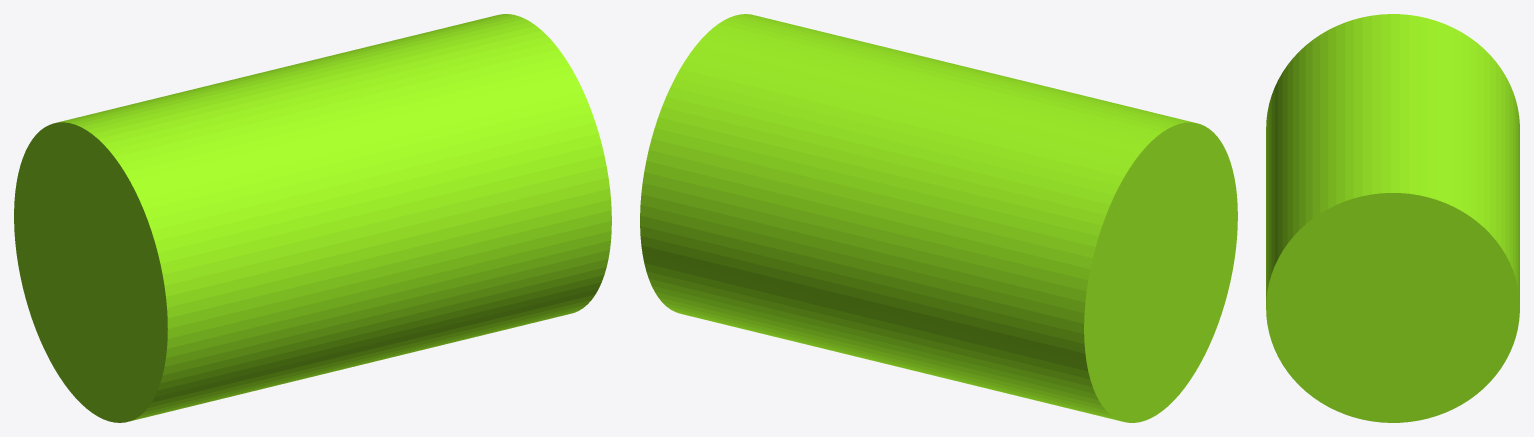
The picture shows the model from 3 angles, left to right: view 1: azimuth 30°, elevation 25°; view 2: azimuth 150°, elevation 25°; view 3: azimuth 270°, elevation 25°; orthographic projection. The views are drawn at different scales.
Bounding box in the file's own units: 50 × 29.99 × 29.99.
